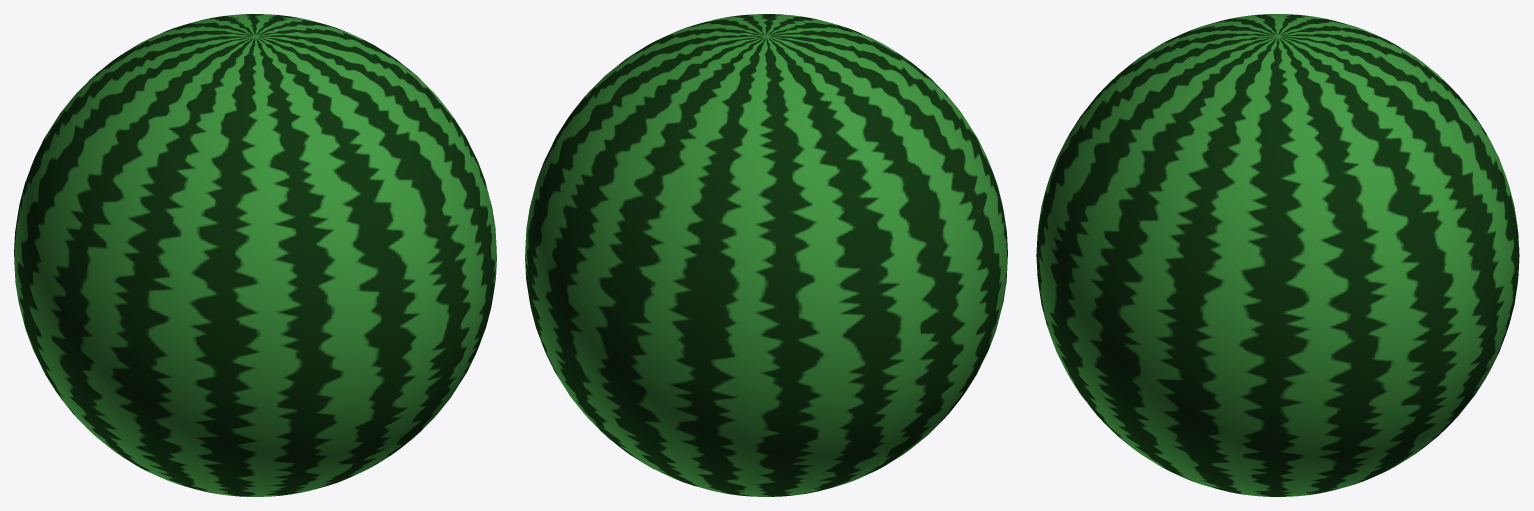
File: WaterMelon.glb
3 renders of one model, left to right at view 1: azimuth 30°, elevation 25°; view 2: azimuth 150°, elevation 25°; view 3: azimuth 270°, elevation 25°, orthographic.
Visible parts, largest first — view 1: sphere; view 2: sphere; view 3: sphere.
Boxes of the visible parts, <box> form: sphere: <box>14,14,496,496</box>; sphere: <box>525,14,1007,496</box>; sphere: <box>1036,14,1519,496</box>.
Size of the model in its own units: 1 by 1 by 1.
Materials: 1 (1 with a texture image).
